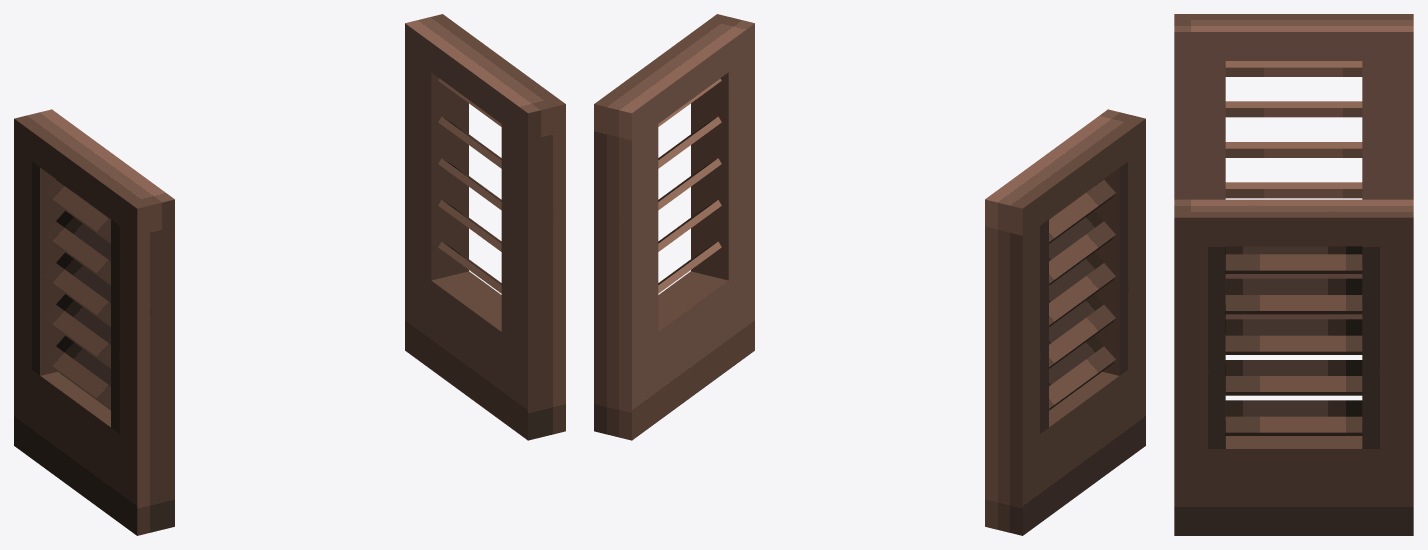
The model's file is open_shutter_372x00.obj.
The picture shows the model from 3 angles, left to right: view 1: azimuth 30°, elevation 25°; view 2: azimuth 150°, elevation 25°; view 3: azimuth 270°, elevation 25°; orthographic projection. The views are drawn at different scales.
Visible parts, largest first — view 1: Frame.003; view 2: Frame.003; view 3: Frame.003.
Boxes of the visible parts, x1,y1,x2,y2 form: Frame.003: (14,14,565,535); Frame.003: (594,14,1145,535); Frame.003: (1174,14,1413,535).
Size of the model in its own units: 3.87 by 2.82 by 1.92.
